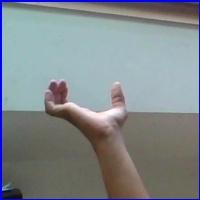B: (40, 75, 135, 144)
